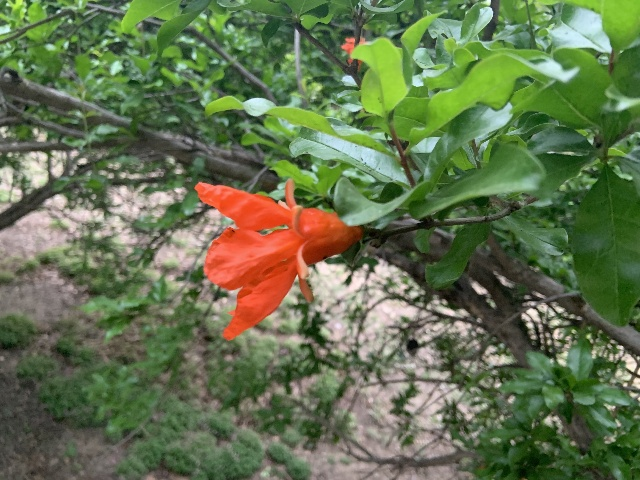flower: (196, 177, 362, 339), (340, 36, 368, 69)
